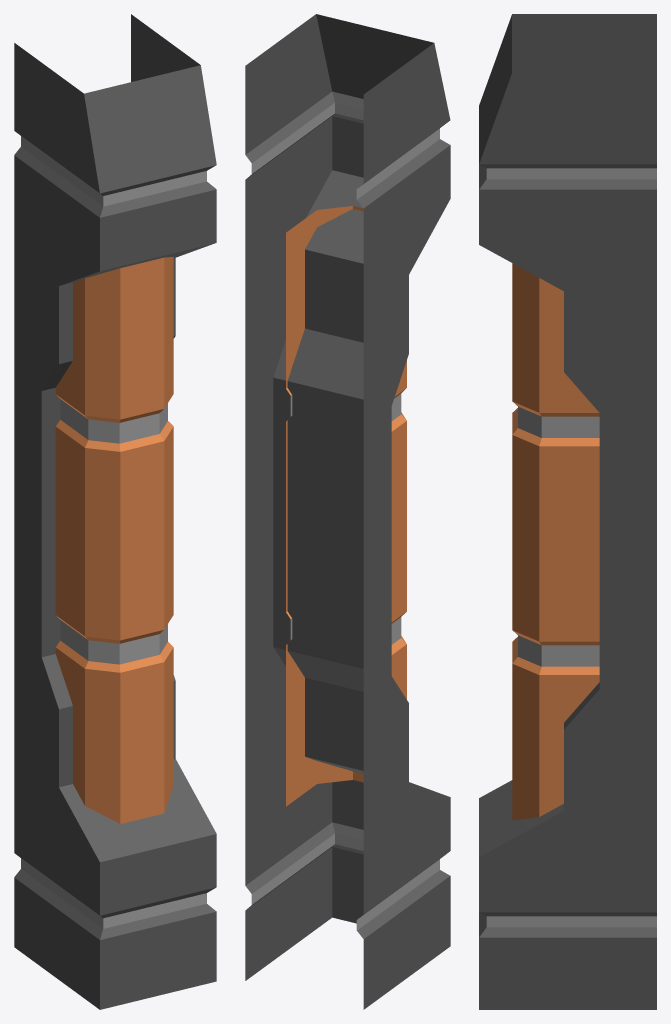
Rendered from SM_Strut.fbx.
The picture shows the model from 3 angles, left to right: view 1: azimuth 30°, elevation 25°; view 2: azimuth 150°, elevation 25°; view 3: azimuth 270°, elevation 25°; orthographic projection. The views are drawn at different scales.
Visible parts, largest first — view 1: SM_Strut; view 2: SM_Strut; view 3: SM_Strut.
Part boxes in pixels (x1,y1,x2,y2): SM_Strut: [14, 14, 216, 1009]; SM_Strut: [245, 14, 450, 1009]; SM_Strut: [479, 14, 656, 1009].
Size of the model in its own units: 39.3 by 291 by 50.
